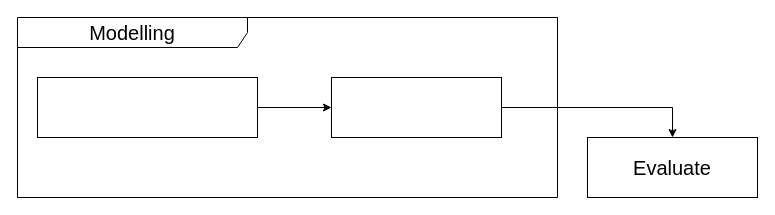
Image size: 775x215. Some labels were removed from this diagram. The shapes that lost their labels are listed below. From the top down, each one's box as (x1, y1, x2, y2) in pixels, then its label:
(36, 76, 258, 138): Mendapatkan Depedency Yolov8
(330, 76, 502, 138): Pelatihan Model
